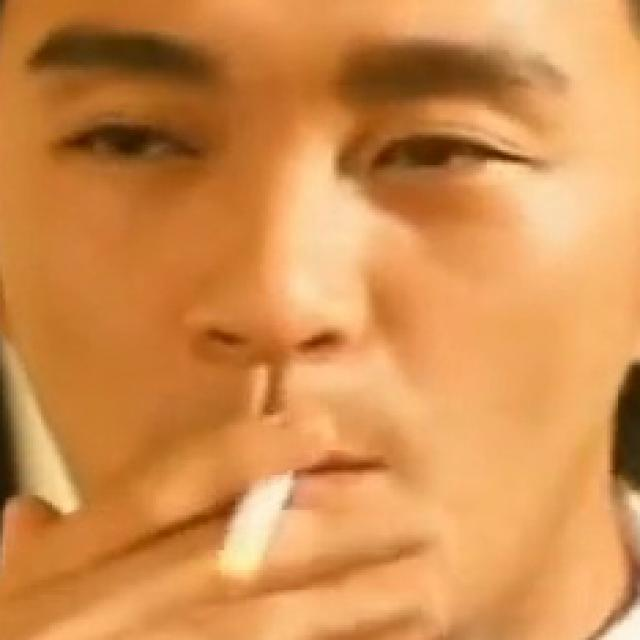smoking: (221, 464, 291, 582)
